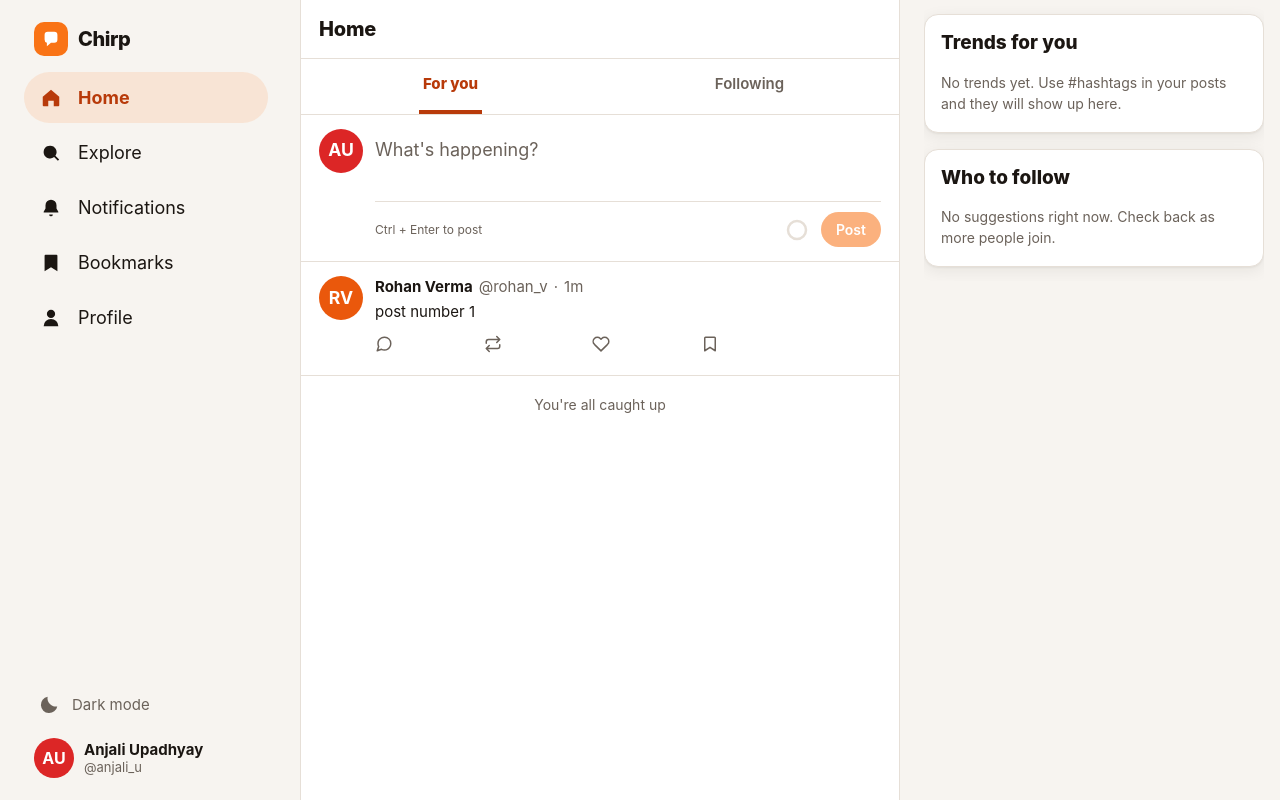
Test case: bookmarks › keeps the old state and shows an error toast when it fails
The image size is (1280, 800).
Click the button named "Bookmark" at [715, 344], box left=695, top=329, right=735, bottom=359
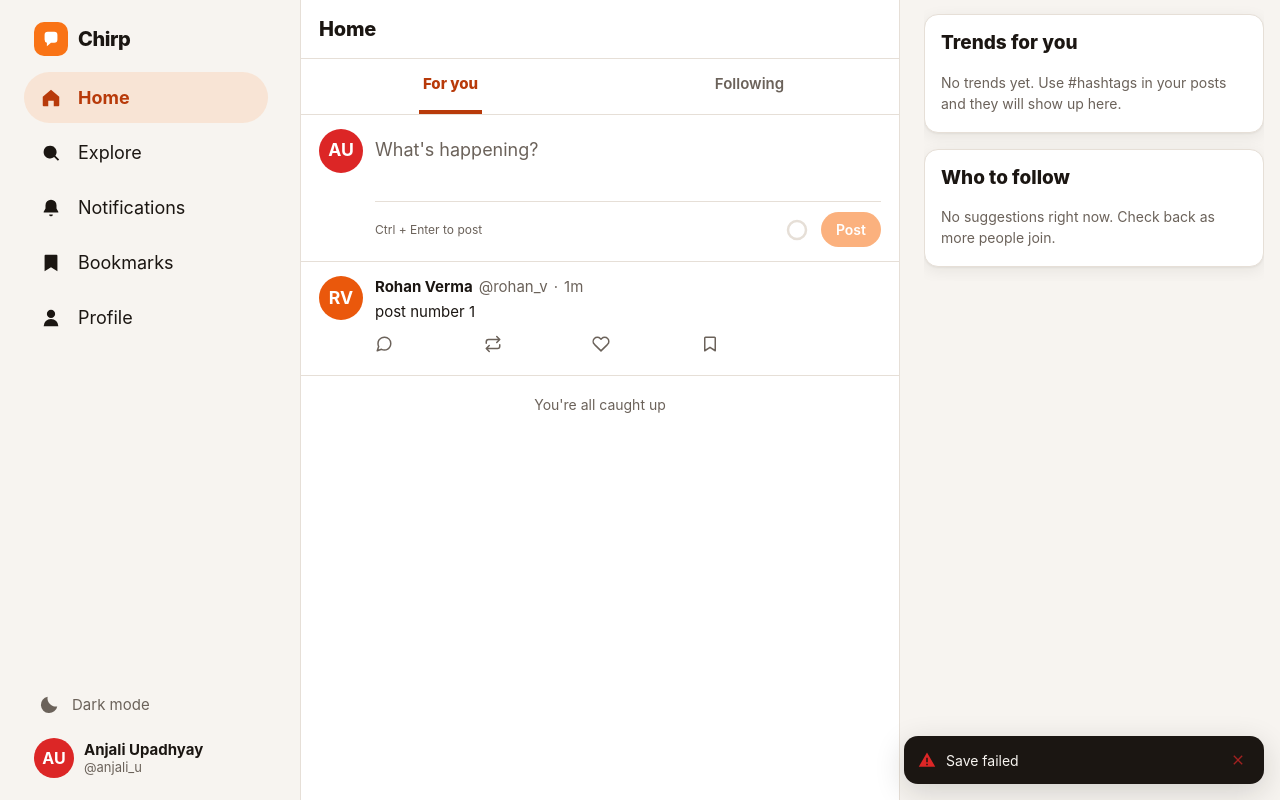
Expected: the text "Save failed" is shown, left=946, top=752, right=1019, bottom=768
